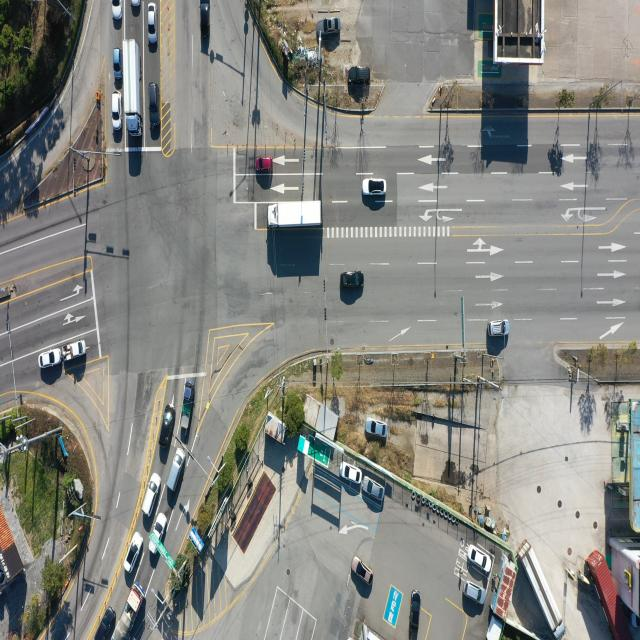car: (147, 508, 168, 556), (142, 473, 161, 518), (167, 447, 185, 493), (124, 531, 144, 571), (96, 605, 117, 640), (470, 547, 494, 575), (352, 557, 373, 586), (462, 580, 485, 606), (149, 80, 160, 132), (160, 406, 173, 448), (317, 18, 340, 40), (341, 461, 363, 483), (364, 479, 385, 502), (198, 0, 210, 39), (411, 590, 422, 632), (39, 348, 62, 368), (147, 4, 157, 49), (364, 418, 386, 438), (341, 272, 364, 290), (350, 66, 370, 84), (489, 320, 510, 337), (362, 178, 383, 195), (112, 91, 121, 129), (255, 158, 273, 173), (113, 48, 121, 80), (111, 0, 122, 20), (132, 0, 142, 15)
medium_truck: (522, 540, 566, 637), (116, 580, 148, 640), (126, 39, 143, 135), (267, 201, 323, 230)
small_truck: (180, 376, 194, 436), (64, 341, 86, 362)
